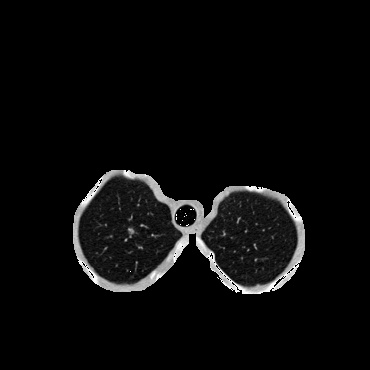PN: (127, 227, 135, 235)
